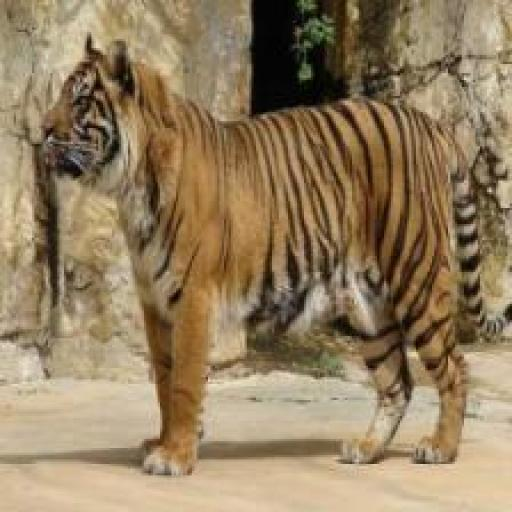Tiger: (34, 32, 482, 477)
